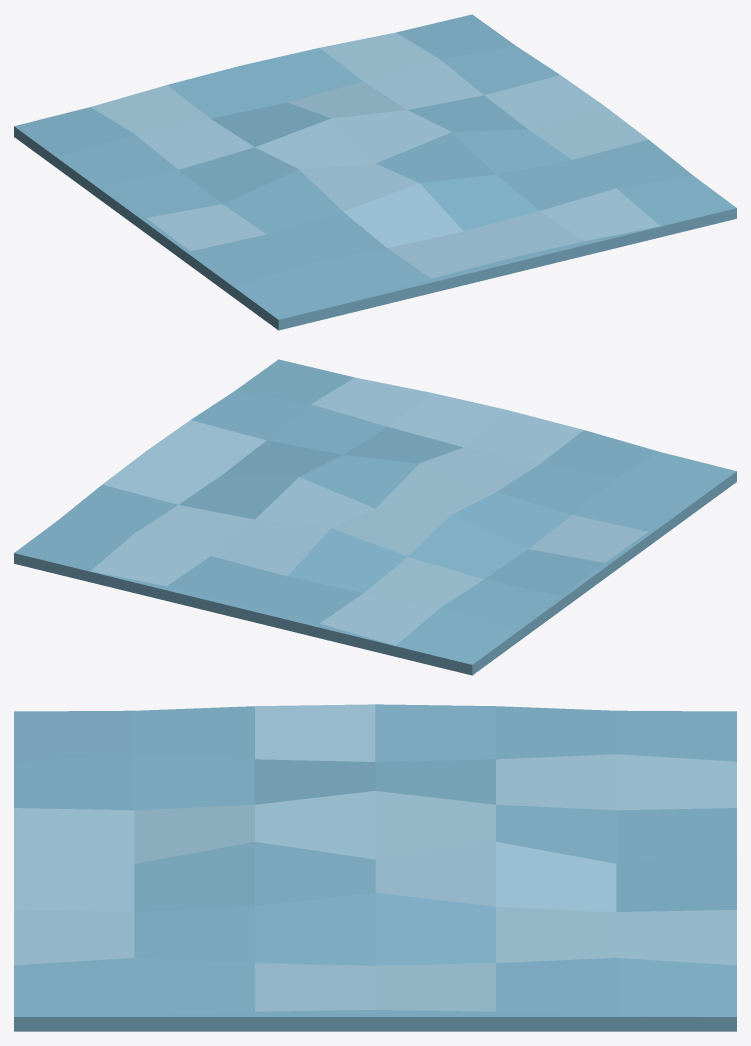
The model's file is animprop_water_01.glb.
The picture shows the model from 3 angles, top to bottom: view 1: azimuth 30°, elevation 25°; view 2: azimuth 150°, elevation 25°; view 3: azimuth 270°, elevation 25°; orthographic projection. The views are drawn at different scales.
Parts seen in each view (by area): view 1: animprop; view 2: animprop; view 3: animprop.
Part boxes in pixels (x1=…): animprop: x1=14, y1=14, x2=736, y2=330; animprop: x1=14, y1=359, x2=736, y2=675; animprop: x1=14, y1=704, x2=736, y2=1031.
Bounding box in the file's own units: 1.8 × 0.1017 × 1.8.
